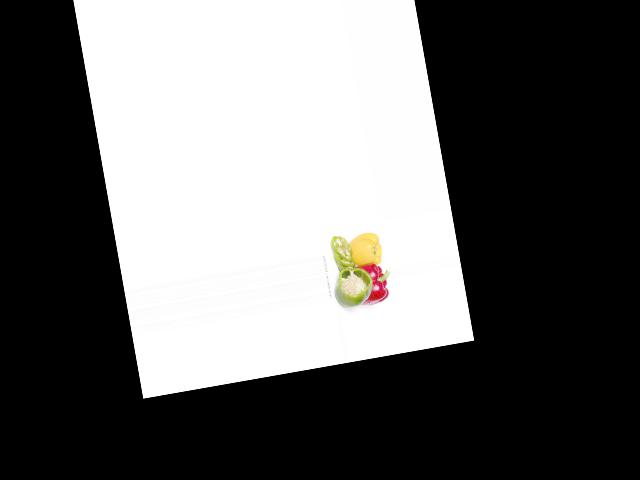bell_pepper: (333, 263, 377, 312)
